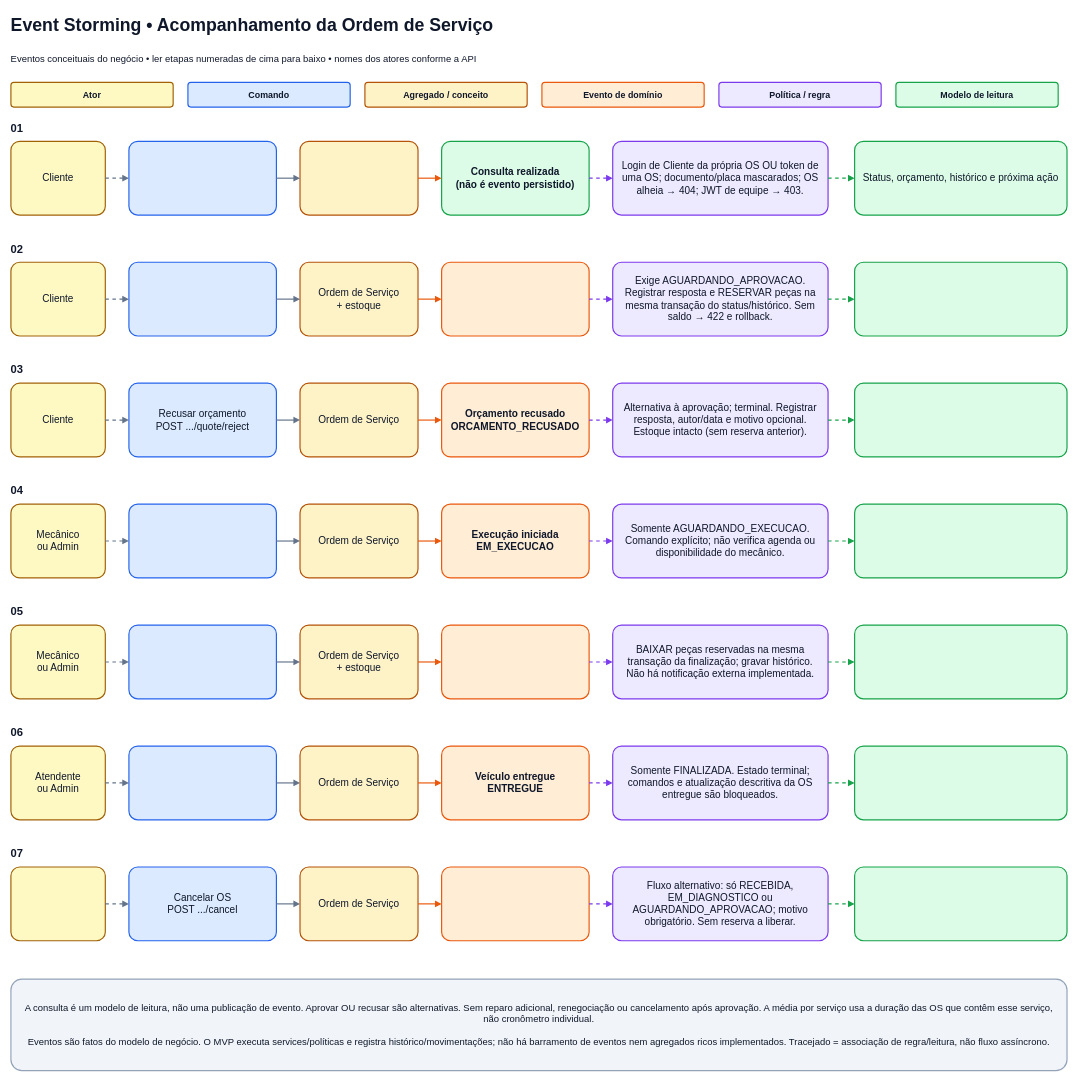
The diagram is 1083 pixels wide and 1081 high, and some of its shapes have lost their labels. Each missing label, with the box of its shape:
Admin: (10, 866, 106, 941)
Andamento e início do tempo de execução: (854, 503, 1067, 578)
Aprovar orçamento POST .../quote/approve: (128, 261, 277, 336)
Concluir execução POST .../complete: (128, 624, 277, 699)
Consulta da OS (não altera agregado): (299, 140, 418, 215)
Consultar andamento GET /tracking/service-orders/{id}: (128, 140, 277, 215)
Execução concluída FINALIZADA: (441, 624, 589, 699)
Fila de OS aguardando execução: (854, 261, 1067, 336)
Histórico completo Marcos da OS: (854, 745, 1067, 820)
Iniciar execução POST .../start-execution: (128, 503, 277, 578)
Orçamento aprovado AGUARDANDO_EXECUCAO: (441, 261, 589, 336)
OS cancelada CANCELADA: (441, 866, 589, 941)
OS encerrada com orçamento REJEITADO: (854, 382, 1067, 457)
OS encerrada Motivo e histórico: (854, 866, 1067, 941)
Registrar entrega POST .../deliver: (128, 745, 277, 820)
Tempo médio da OS Geral e por serviço presente: (854, 624, 1067, 699)
